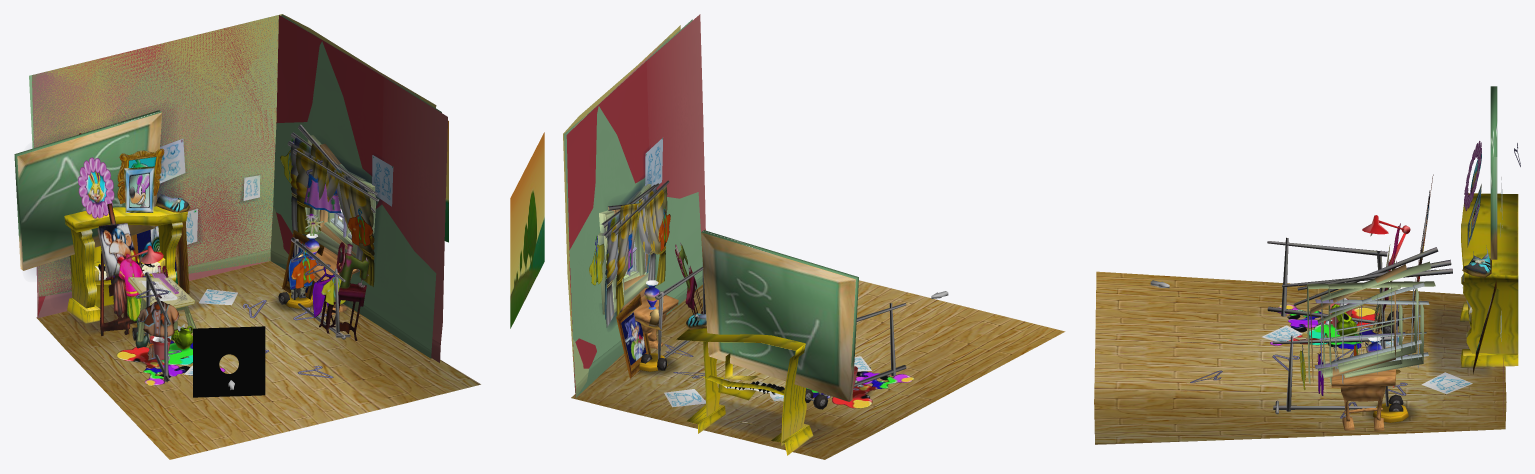
File: room.glb
The picture shows the model from 3 angles, left to right: view 1: azimuth 30°, elevation 25°; view 2: azimuth 150°, elevation 25°; view 3: azimuth 270°, elevation 25°; orthographic projection. The views are drawn at different scales.
Parts seen in each view (by area): view 1: wall1 (×5), floor, wall2 (×3), nameProps, Piano, spotlight__billboard, easel, pPlane23 (×3), pPlane1 (×2), sewing_machine1, wall_paintings1 (×2), table (+18 smaller); view 2: floor, wall2 (×4), nameProps, Piano, background, pPlane1 (×2), pPlane23 (×2), pPlane24 (×2), wall_paintings23, TABLE_Radio_v05_RADIOTABLE_Top, WindowFrame, wall_paintings39 (+1 smaller); view 3: floor, Piano, pPlane1 (×2), WindowFrame (×3), TABLE_Radio_v05_RADIOTABLE_Top, nameProps, window1_WindowFrame, wall_paintings3, pCylinder14, pCylinder32, gender_props_shoes_maleTennis3_new_TheFootL, pPlane2.
Part boxes in pixels (x1,y1,x2,y2): wall1 (×5): (29,14,282,318); floor: (36,261,480,459); wall2 (×3): (270,14,447,362); nameProps: (14,110,162,270); Piano: (64,206,187,323); spotlight__billboard: (193,326,265,397); easel: (97,203,145,336); pPlane23 (×3): (290,143,339,234); pPlane1 (×2): (69,290,225,385); sewing_machine1: (316,242,369,340); wall_paintings1 (×2): (117,138,185,203); table: (128,273,196,342); floor: (571,280,1065,459); wall2 (×4): (563,14,705,397); nameProps: (701,230,858,401); Piano: (676,328,813,455); background: (510,132,544,328); pPlane1 (×2): (683,367,914,445); pPlane23 (×2): (606,211,638,327); pPlane24 (×2): (637,185,667,285); wall_paintings23: (616,293,650,378); TABLE_Radio_v05_RADIOTABLE_Top: (619,287,678,341); WindowFrame: (597,191,644,314); wall_paintings39: (645,138,662,186); floor: (1094,271,1506,444); Piano: (1460,193,1518,367); pPlane1 (×2): (1270,304,1489,374); WindowFrame (×3): (1310,261,1435,384); TABLE_Radio_v05_RADIOTABLE_Top: (1331,369,1395,421); nameProps: (1490,86,1497,259); window1_WindowFrame: (1307,281,1412,384); wall_paintings3: (1421,372,1472,393); pCylinder14: (1267,241,1388,256); pCylinder32: (1293,247,1438,305); gender_props_shoes_maleTennis3_new_TheFootL: (1462,245,1491,277); pPlane2: (1464,141,1481,210).
Bounding box in the file's own units: 24.62 × 16.67 × 20.82.
37 materials, 34 textured.
